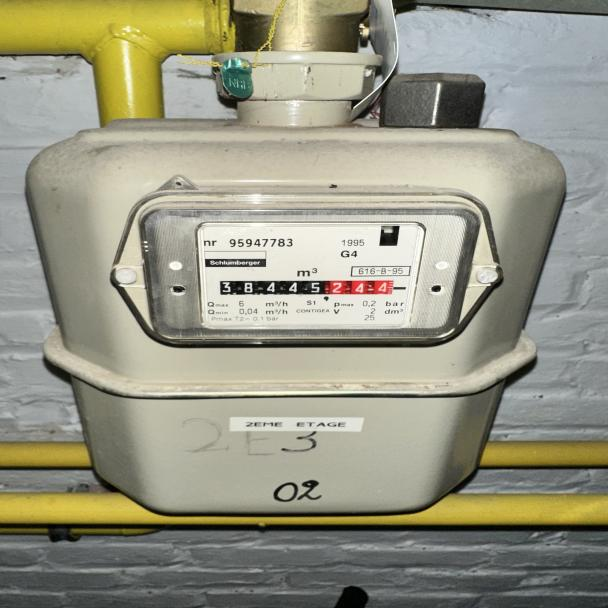2: (330, 278, 351, 298)
3: (214, 278, 238, 297)
4: (372, 279, 396, 298), (282, 278, 304, 298), (352, 279, 373, 297), (262, 279, 281, 296)
5: (304, 279, 328, 298)
8: (237, 279, 261, 297)
cm: (330, 278, 400, 300)
counter: (210, 276, 331, 300)
